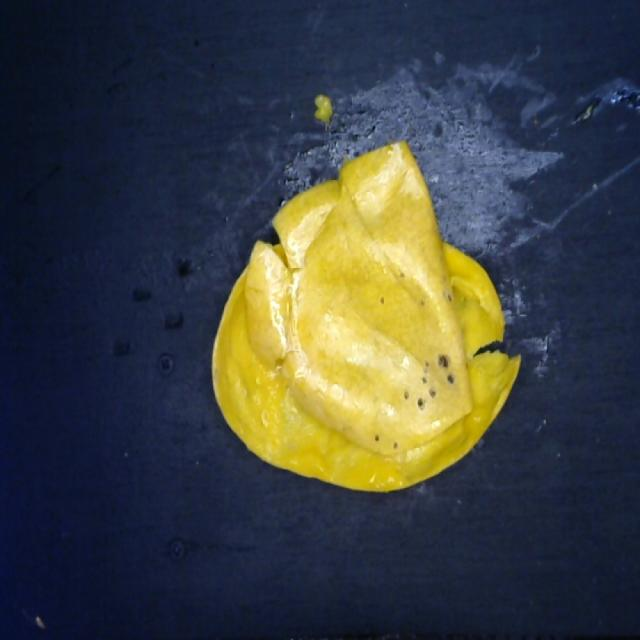biodegradable: (205, 131, 520, 497)
